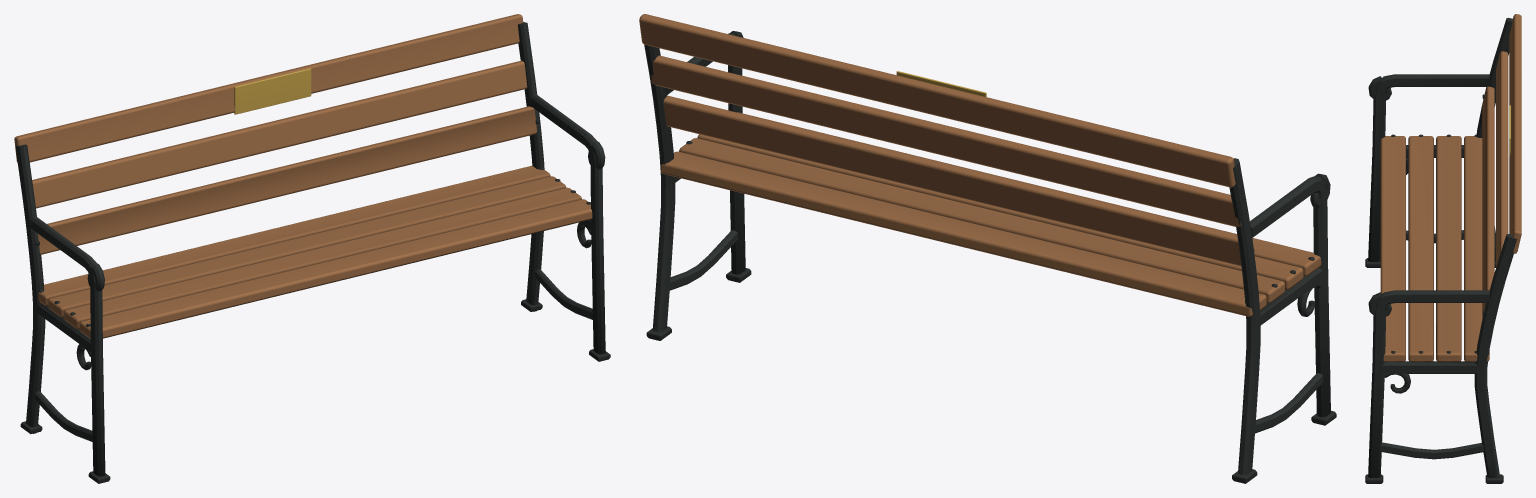
File: bench.glb
3 renders of one model, left to right at view 1: azimuth 30°, elevation 25°; view 2: azimuth 150°, elevation 25°; view 3: azimuth 270°, elevation 25°, orthographic. The views are drawn at different scales.
Visible parts, largest first — view 1: bench; view 2: bench; view 3: bench.
Boxes of the visible parts, left/top/right/bottom form: bench: left=14, top=14, right=610, bottom=483; bench: left=639, top=14, right=1336, bottom=483; bench: left=1365, top=14, right=1521, bottom=483.
Size of the model in its own units: 1.75 by 0.928 by 0.5207.
